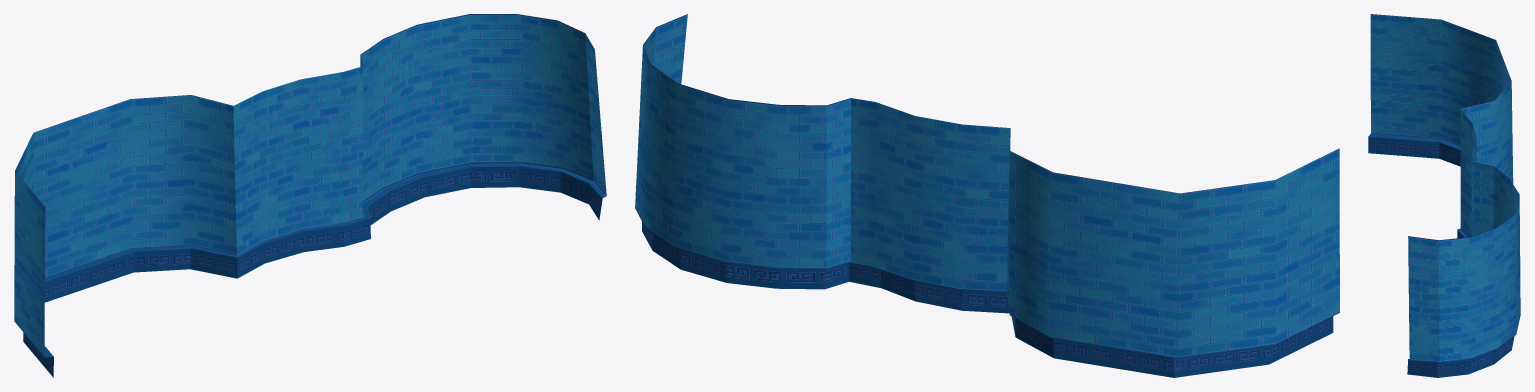
The model's file is Cancer_std_Wall.fbx.
The picture shows the model from 3 angles, left to right: view 1: azimuth 30°, elevation 25°; view 2: azimuth 150°, elevation 25°; view 3: azimuth 270°, elevation 25°; orthographic projection. The views are drawn at different scales.
Parts seen in each view (by area): view 1: Curved_Wall, Stair_Wall; view 2: Curved_Wall, Stair_Wall; view 3: Curved_Wall, Stair_Wall.
Part boxes in pixels (<box>): Curved_Wall: <box>14,14,606,377</box>; Stair_Wall: <box>233,66,370,278</box>; Curved_Wall: <box>635,14,1339,377</box>; Stair_Wall: <box>848,98,1010,313</box>; Curved_Wall: <box>1368,14,1520,377</box>; Stair_Wall: <box>1457,109,1476,238</box>.
Size of the model in its own units: 1867 by 519 by 523.
